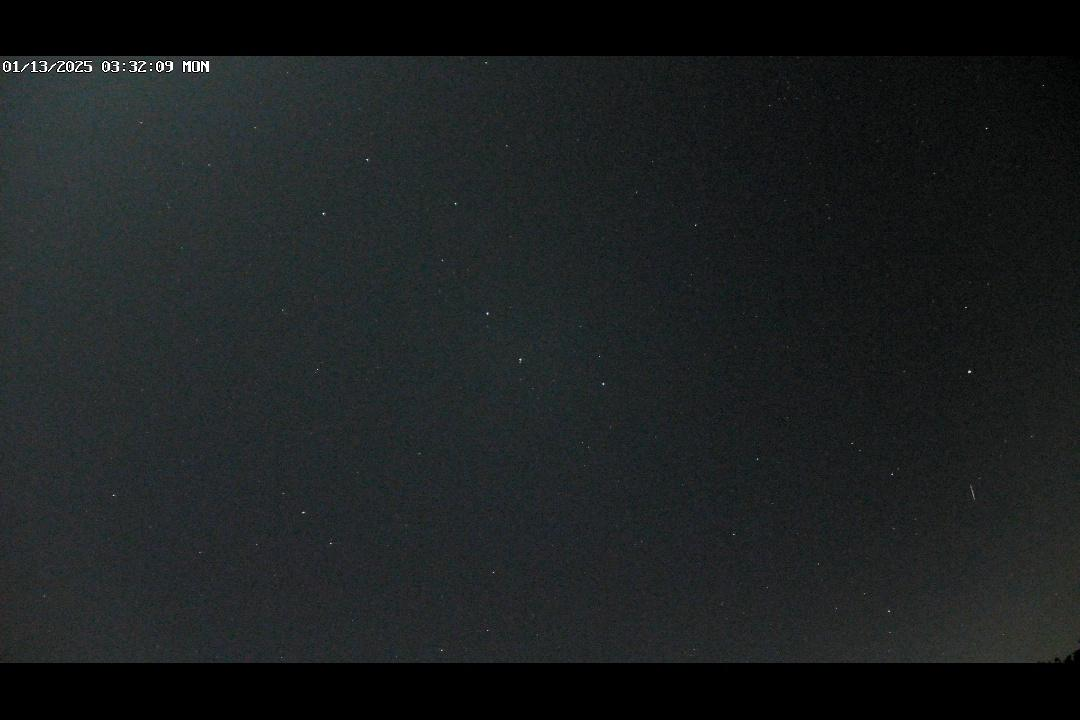meteorite: (963, 481, 984, 504)
